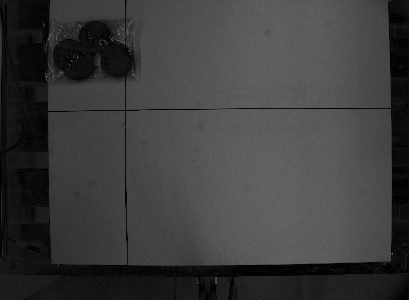t1: (39, 13, 138, 87)
